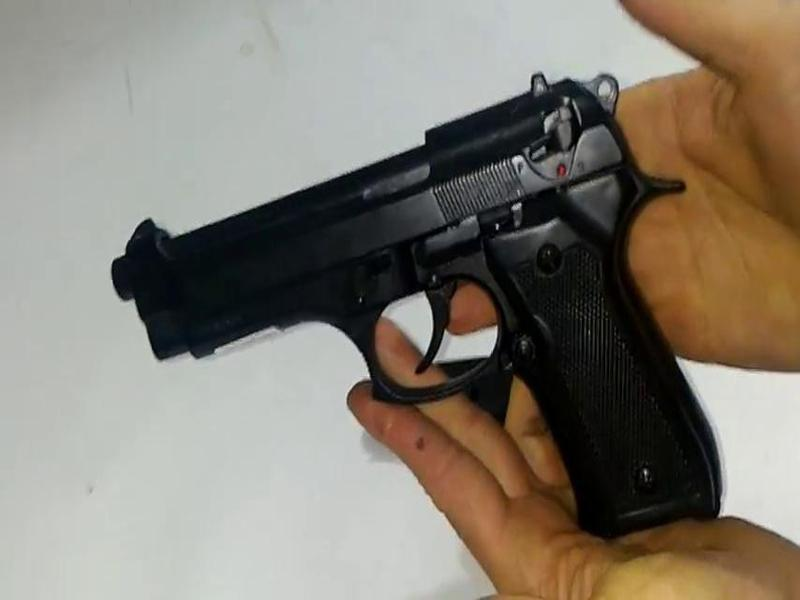Pistola: (109, 58, 739, 543)
